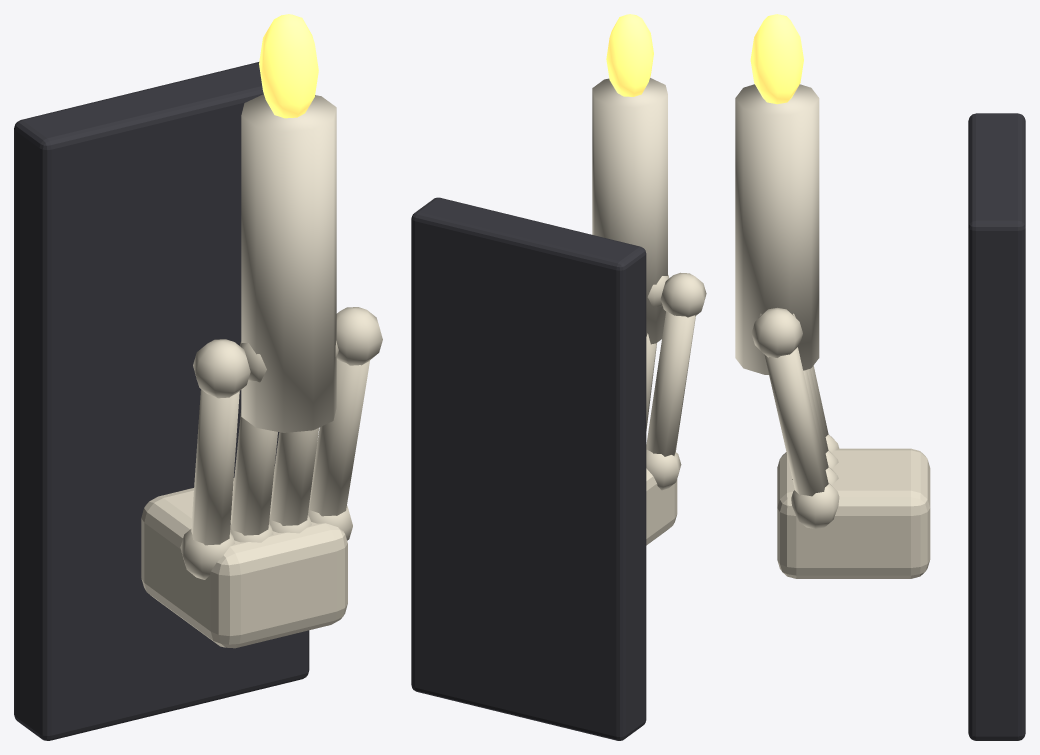
File: sconce_bone_hand.glb
The picture shows the model from 3 angles, left to right: view 1: azimuth 30°, elevation 25°; view 2: azimuth 150°, elevation 25°; view 3: azimuth 270°, elevation 25°; orthographic projection. The views are drawn at different scales.
Parts seen in each view (by area): view 1: GD_sconce_bone_hand__m0, GD_sconce_bone_hand__m1, GD_sconce_bone_hand__m2, GD_sconce_bone_hand__m3; view 2: GD_sconce_bone_hand__m0, GD_sconce_bone_hand__m2, GD_sconce_bone_hand__m1, GD_sconce_bone_hand__m3; view 3: GD_sconce_bone_hand__m0, GD_sconce_bone_hand__m1, GD_sconce_bone_hand__m2, GD_sconce_bone_hand__m3.
Part boxes in pixels (<box>): GD_sconce_bone_hand__m0: <box>14,62,309,740</box>; GD_sconce_bone_hand__m1: <box>141,307,382,648</box>; GD_sconce_bone_hand__m2: <box>241,94,336,432</box>; GD_sconce_bone_hand__m3: <box>259,14,318,118</box>; GD_sconce_bone_hand__m0: <box>411,197,646,740</box>; GD_sconce_bone_hand__m2: <box>592,78,667,344</box>; GD_sconce_bone_hand__m1: <box>646,272,706,545</box>; GD_sconce_bone_hand__m3: <box>606,14,653,96</box>; GD_sconce_bone_hand__m0: <box>968,113,1025,740</box>; GD_sconce_bone_hand__m1: <box>751,307,930,578</box>; GD_sconce_bone_hand__m2: <box>735,84,819,374</box>; GD_sconce_bone_hand__m3: <box>750,14,803,104</box>.
Size of the model in its own units: 0.14 by 0.3886 by 0.152.
